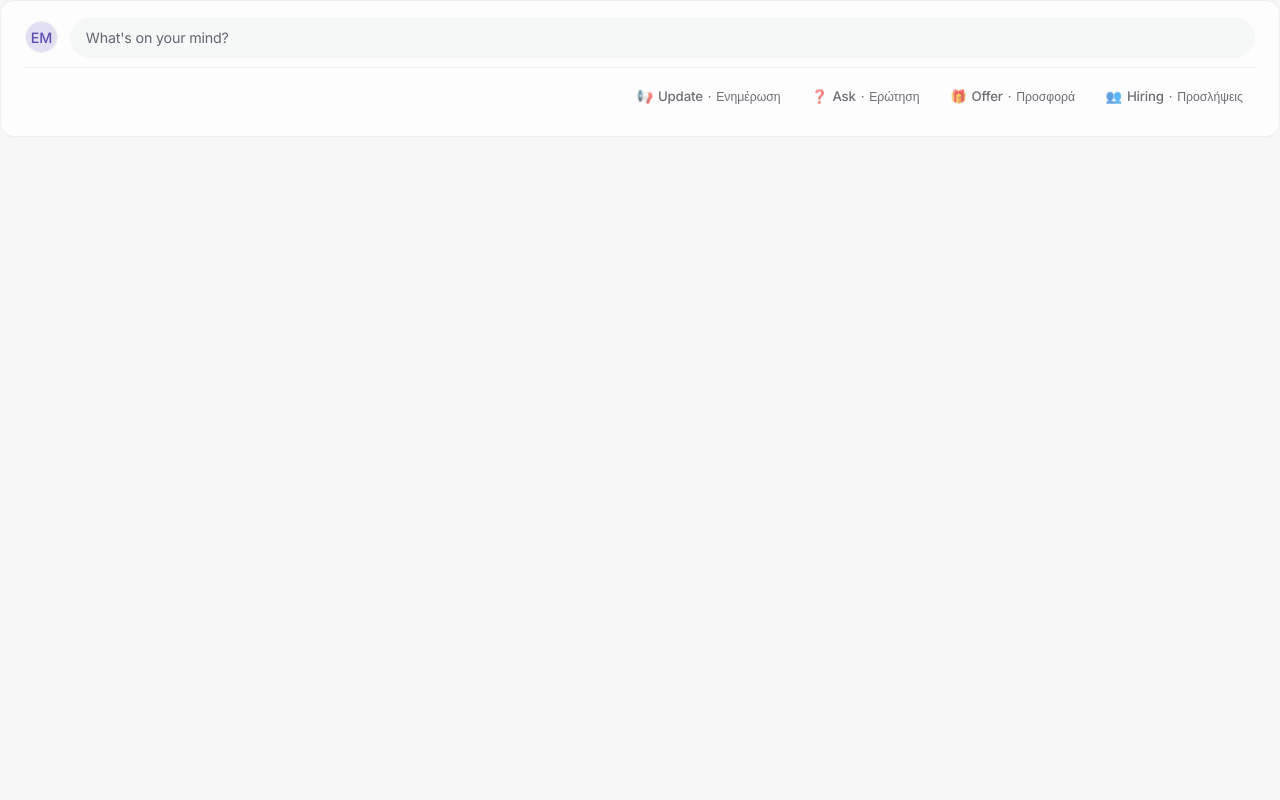
Test: CreatePost › clears the draft after a successful submission
Click the button "What's on your mind?" at (157, 37), box top-left (70, 17), bottom-right (1255, 58)
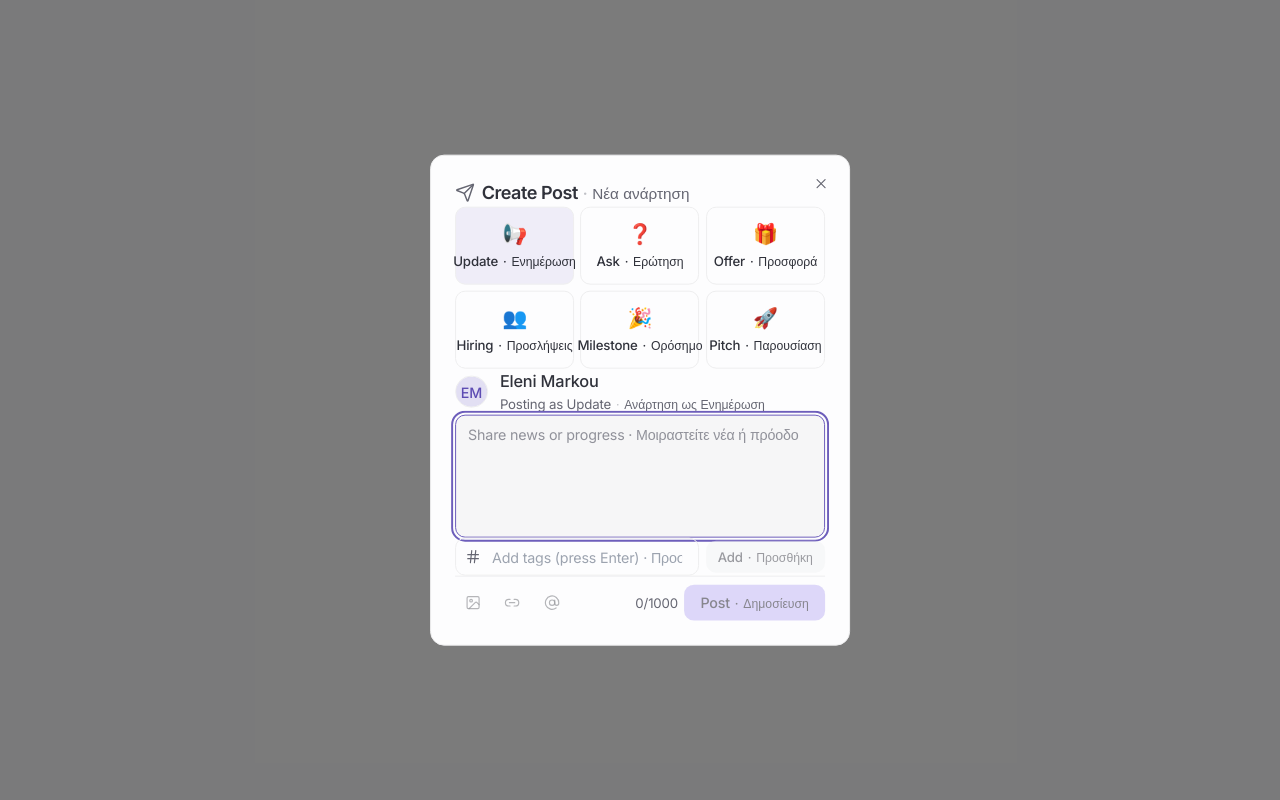
Type "Shipped v1" into the text box named "Post content" at (640, 476), box top-left (455, 414), bottom-right (825, 537)
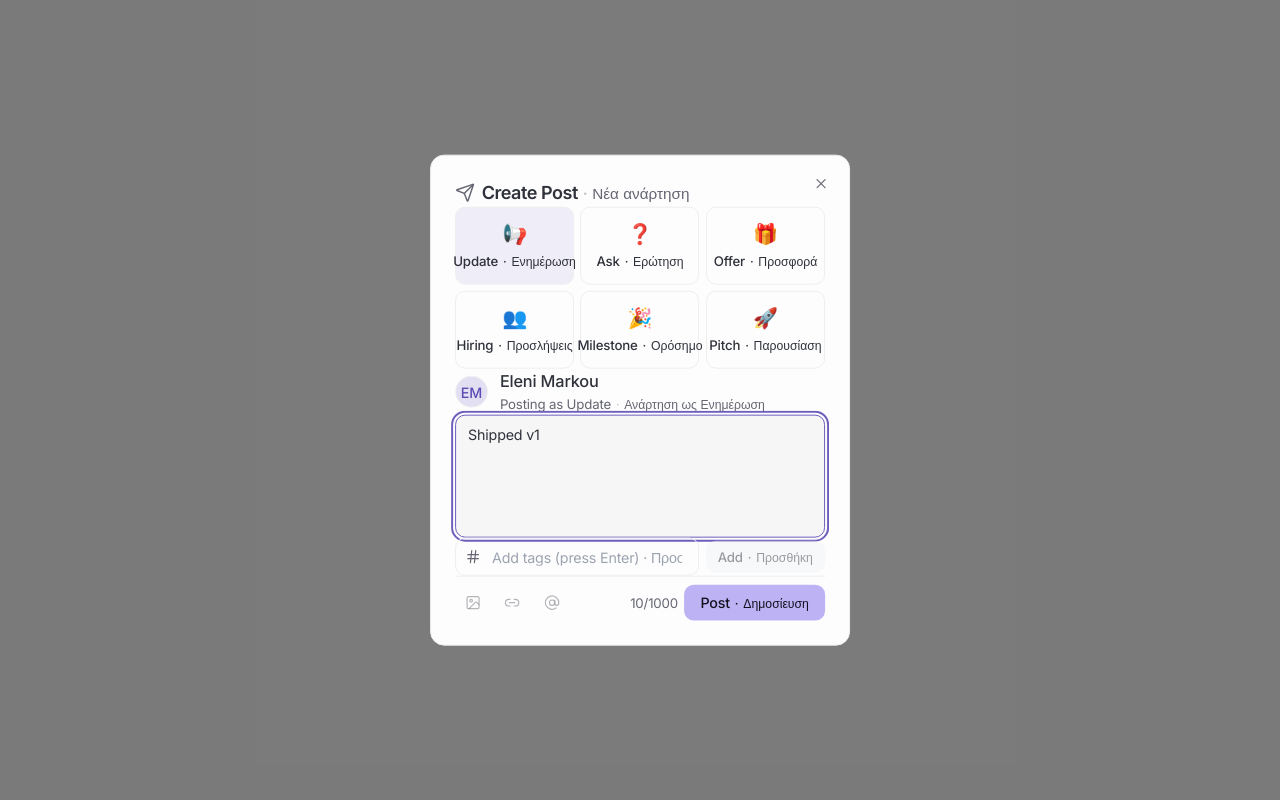
Click the button "Post·Δημοσίευση" at (755, 603), box top-left (684, 585), bottom-right (825, 621)
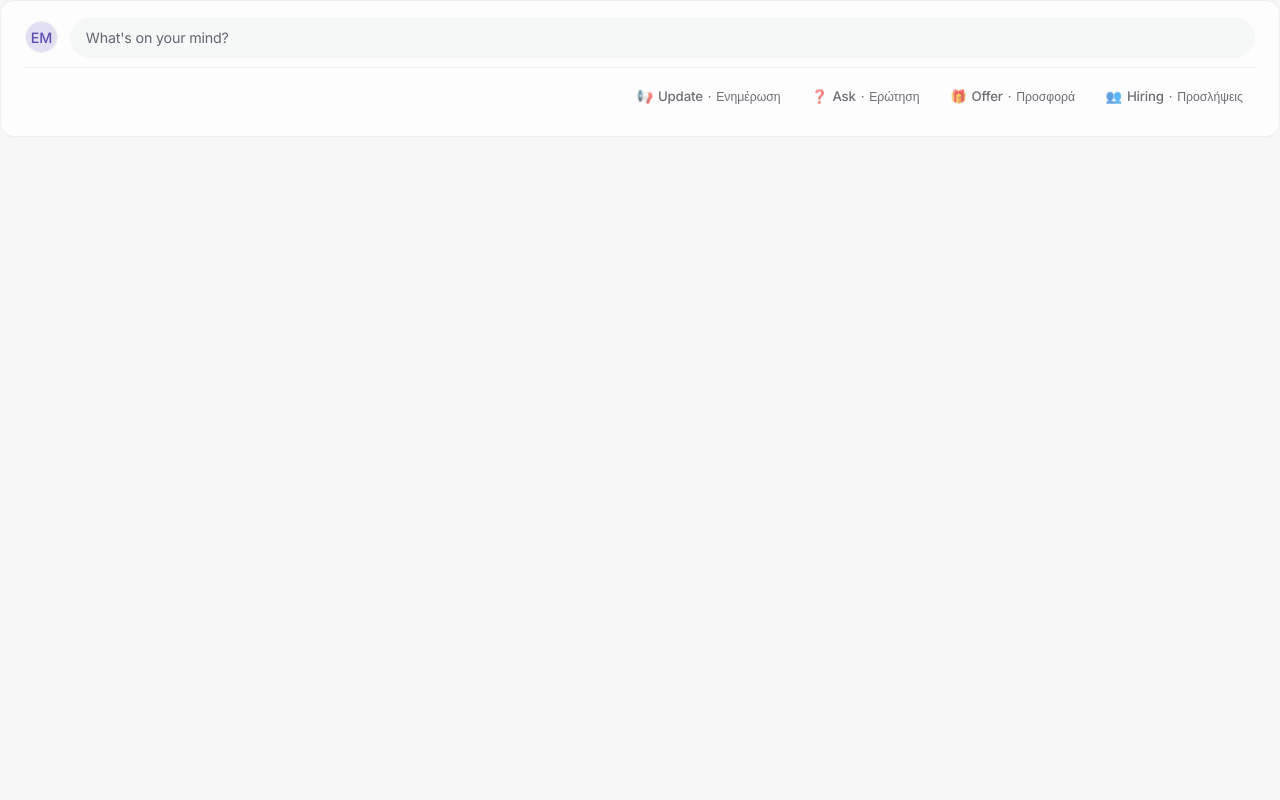
Expected: the dialog is gone
